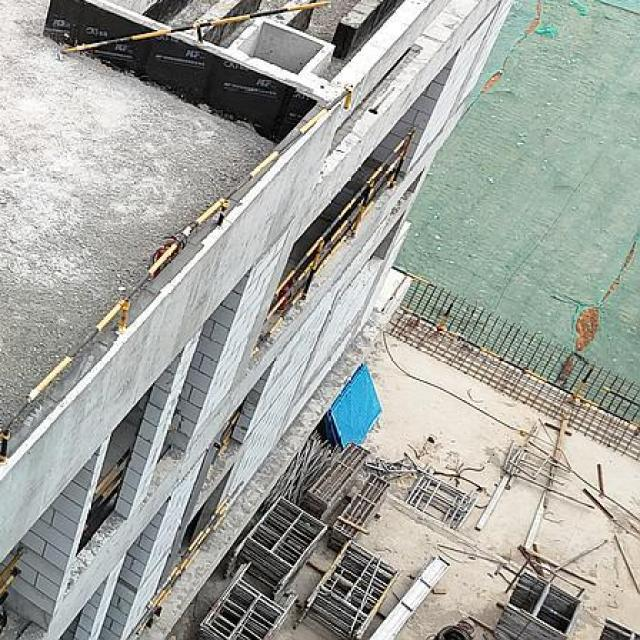edge_guardrail: (1, 81, 353, 468), (252, 129, 437, 382), (62, 0, 331, 76), (127, 500, 230, 640), (0, 549, 24, 596)
